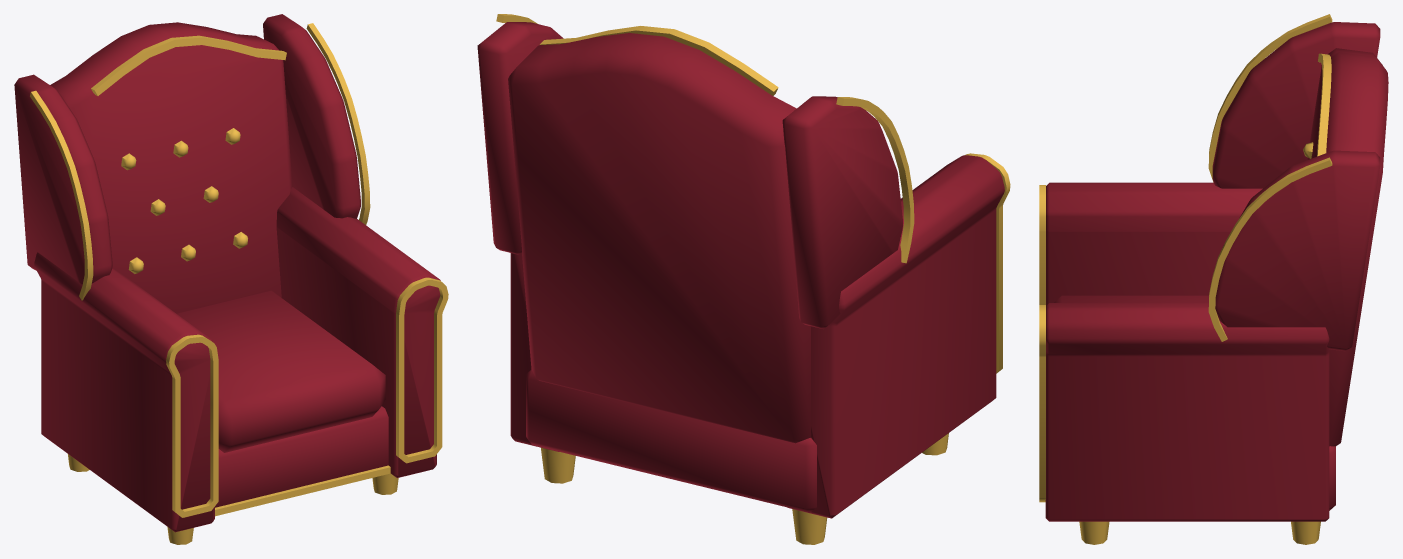
Rendered from Lobby_VIPArmchair.fbx.
3 views of the same model, side by side, from view 1: azimuth 30°, elevation 25°; view 2: azimuth 150°, elevation 25°; view 3: azimuth 270°, elevation 25° (orthographic). The views are drawn at different scales.
Parts seen in each view (by area): view 1: Velvet, Gold; view 2: Velvet, Gold; view 3: Velvet, Gold.
Part boxes in pixels (x1,y1,x2,y2): Velvet: (14, 14, 440, 532); Gold: (30, 23, 448, 544); Velvet: (477, 22, 1004, 518); Gold: (496, 14, 1010, 544); Velvet: (1045, 22, 1388, 521); Gold: (1039, 14, 1332, 544).
Size of the model in its own units: 298 by 400 by 300.
